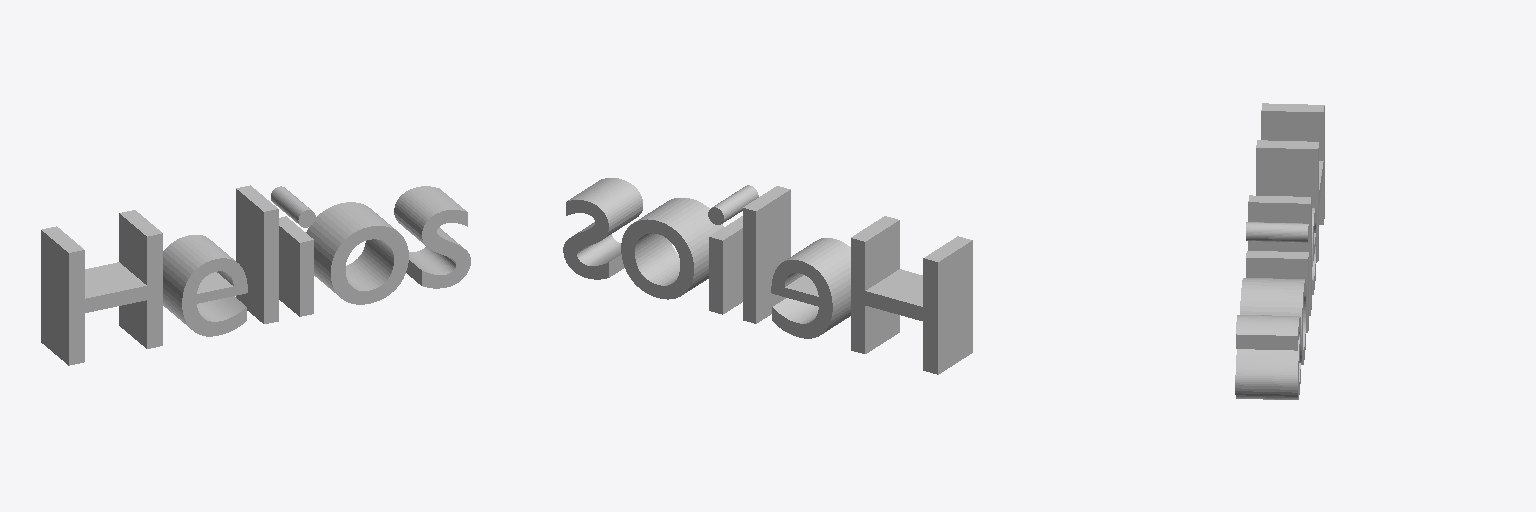
3 views of the same model, side by side, from view 1: azimuth 30°, elevation 25°; view 2: azimuth 150°, elevation 25°; view 3: azimuth 270°, elevation 25° (orthographic).
Parts seen in each view (by area): view 1: Text_CUText; view 2: Text_CUText; view 3: Text_CUText.
Part boxes in pixels (x1,y1,x2,y2): Text_CUText: (41, 185, 470, 365); Text_CUText: (563, 178, 972, 374); Text_CUText: (1235, 103, 1324, 399).
Bounding box in the file's own units: 7.59 × 2.11 × 1.5.